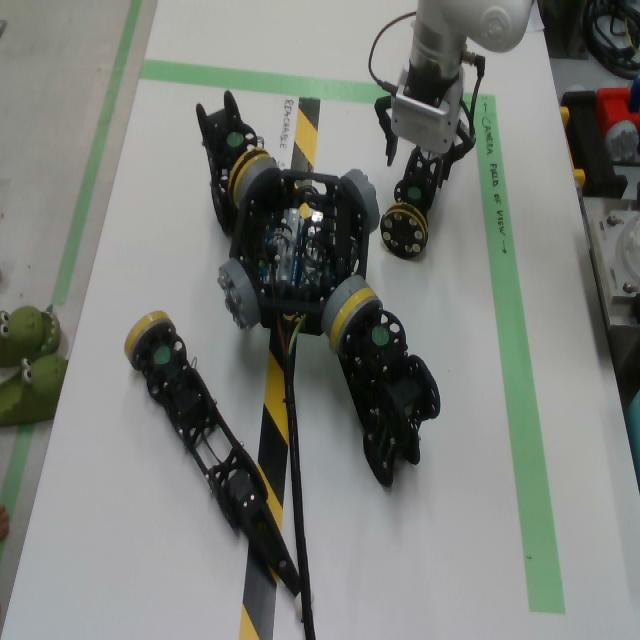body: (230, 172, 370, 337)
body_connector: (321, 275, 370, 337), (217, 259, 259, 331), (341, 169, 381, 233), (235, 157, 280, 208)
gripper: (375, 65, 477, 189)
leg: (123, 311, 302, 621), (329, 288, 441, 491), (195, 89, 270, 233), (379, 147, 442, 259)
leg_connector: (330, 288, 379, 353), (124, 311, 173, 369), (380, 203, 429, 260), (227, 149, 271, 205)
leg_marker: (155, 347, 171, 365), (373, 327, 389, 345), (227, 132, 244, 147), (408, 187, 420, 199)
